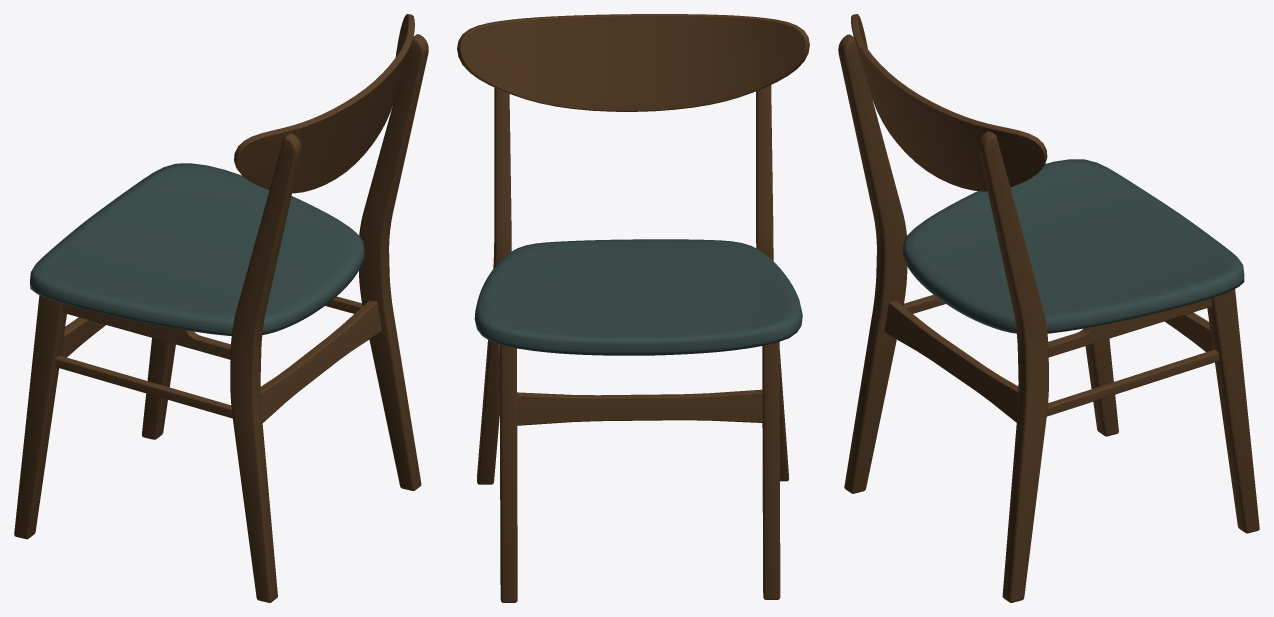
File: cadeira do quarto de solteiro.fbx
3 renders of one model, left to right at view 1: azimuth 30°, elevation 25°; view 2: azimuth 150°, elevation 25°; view 3: azimuth 270°, elevation 25°, orthographic. The views are drawn at different scales.
Visible parts, largest first — view 1: cadeira; view 2: cadeira; view 3: cadeira.
Part boxes in pixels (x1,y1,x2,y2): cadeira: (14, 14, 428, 602); cadeira: (457, 14, 809, 602); cadeira: (838, 14, 1259, 602).
Bounding box in the file's own units: 75.93 × 93.54 × 76.14.
